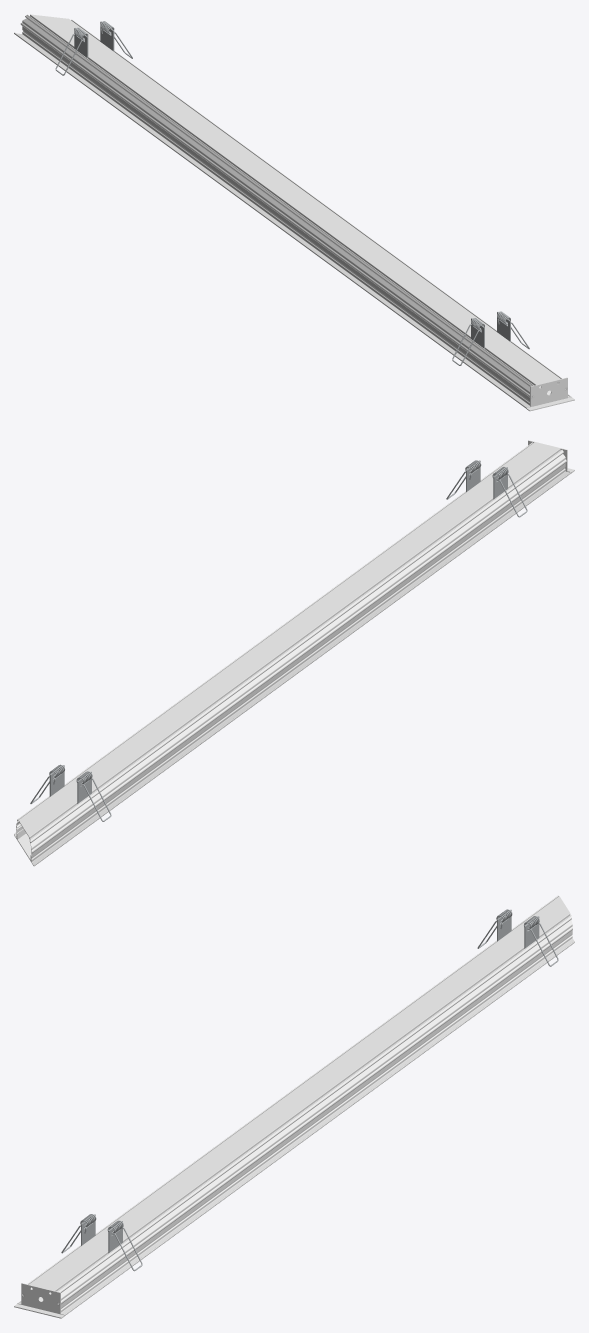
The model's file is Fit40StandardEmbutido-corte-45.glb.
3 views of the same model, one above another, from view 1: azimuth 30°, elevation 25°; view 2: azimuth 150°, elevation 25°; view 3: azimuth 330°, elevation 25° (orthographic). The views are drawn at different scales.
Visible parts, largest first — view 1: 3DGeom-2, 3DGeom-1, 3DGeom-5; view 2: 3DGeom-2, 3DGeom-1; view 3: 3DGeom-2, 3DGeom-5.
Boxes of the visible parts, <box> form: 3DGeom-2: <box>20,14,570,397</box>; 3DGeom-1: <box>14,26,529,408</box>; 3DGeom-5: <box>526,377,574,411</box>; 3DGeom-2: <box>14,442,566,865</box>; 3DGeom-1: <box>31,463,571,866</box>; 3DGeom-2: <box>27,895,574,1315</box>; 3DGeom-5: <box>14,1283,64,1318</box>.
Size of the model in its own units: 0.0793 by 0.0469 by 1.01.
Materials: 3 (1 with a texture image).
